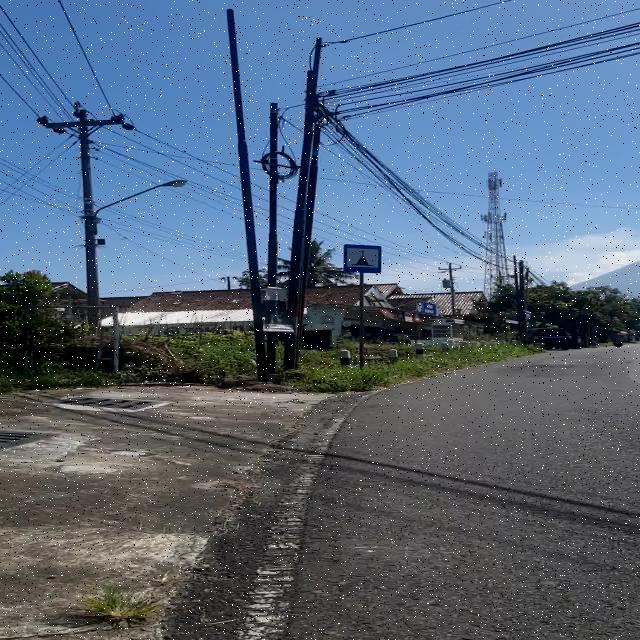Gereja: (343, 244, 382, 273)
